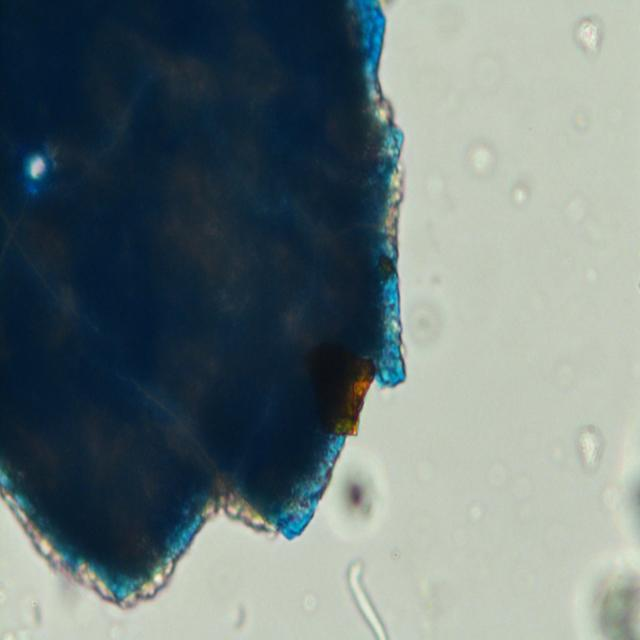Background material: (574, 547, 640, 638), (342, 555, 392, 639), (338, 464, 382, 528), (566, 192, 609, 243), (0, 602, 48, 640), (465, 139, 501, 188), (618, 458, 640, 538), (571, 14, 609, 59), (577, 421, 606, 477), (406, 304, 444, 346), (513, 184, 531, 212)
Fragment: (0, 0, 404, 611)
